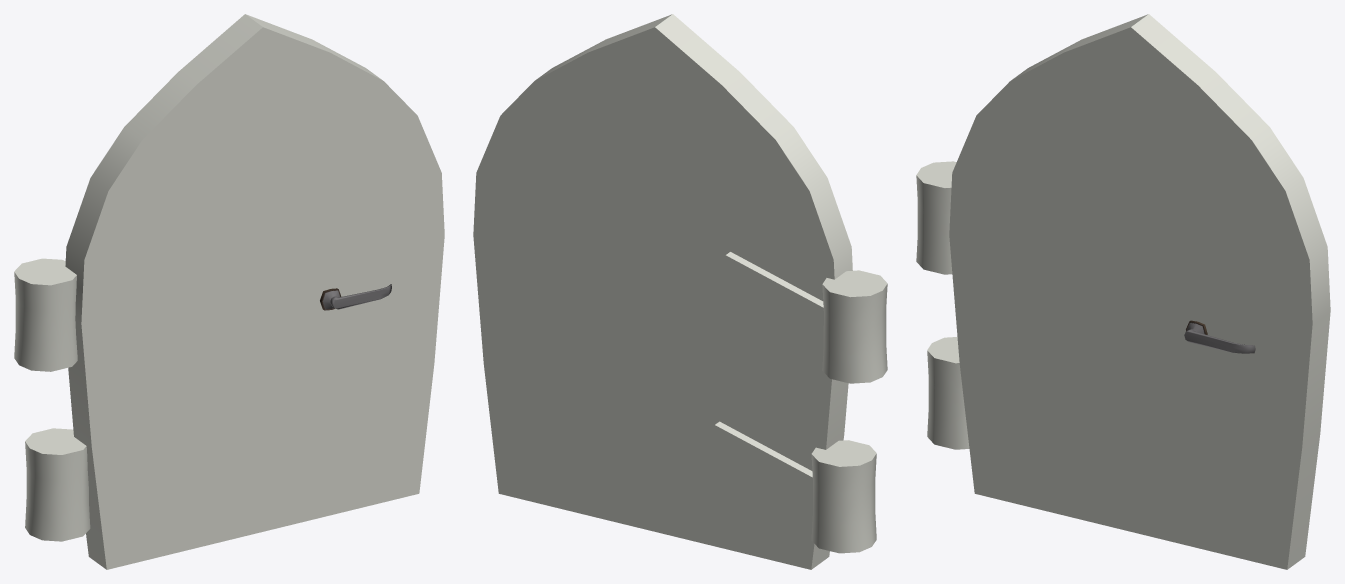
Rendered from door.fbx.
The picture shows the model from 3 angles, left to right: view 1: azimuth 30°, elevation 25°; view 2: azimuth 150°, elevation 25°; view 3: azimuth 330°, elevation 25°; orthographic projection.
Visible parts, largest first — view 1: node_id100, node_id102, node_id114; view 2: node_id100, node_id102; view 3: node_id100, node_id102, node_id114.
Boxes of the visible parts, <box> form: node_id100: <box>65,14,444,569</box>; node_id102: <box>14,258,90,541</box>; node_id114: <box>323,284,391,309</box>; node_id100: <box>473,14,852,569</box>; node_id102: <box>673,252,887,553</box>; node_id100: <box>949,14,1330,569</box>; node_id102: <box>916,161,969,449</box>; node_id114: <box>1184,323,1255,353</box>.
Size of the model in its own units: 0.4338 by 0.512 by 0.0751.
Materials: 4 (4 with a texture image).
